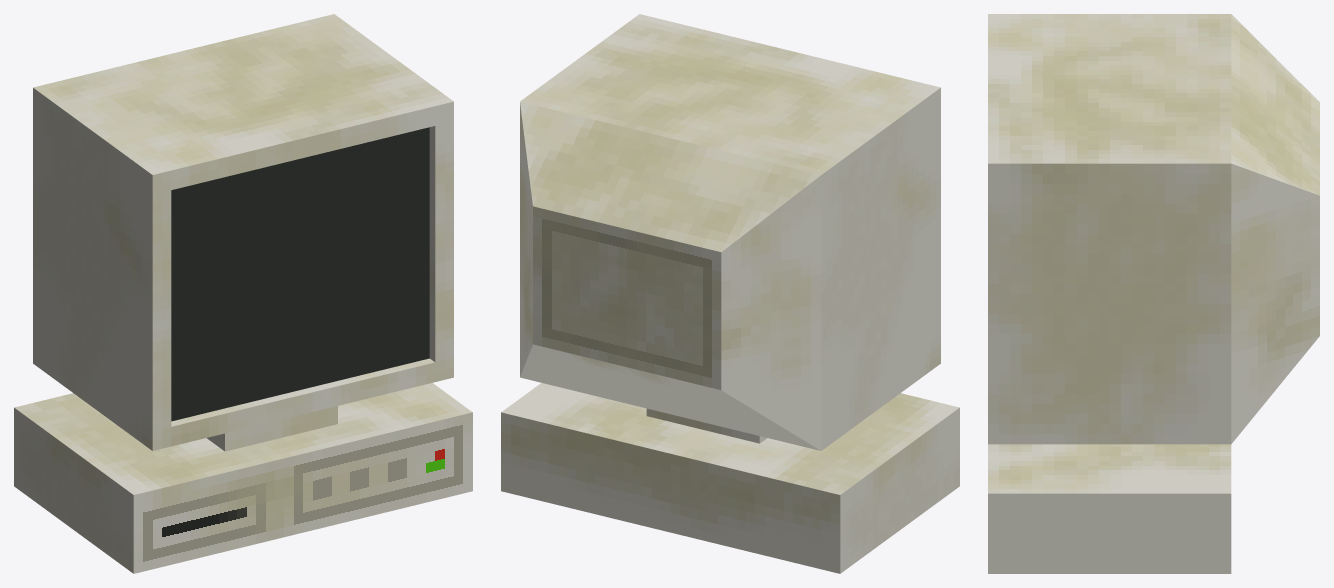
Rendered from ComputerScreen.gltf.
3 renders of one model, left to right at view 1: azimuth 30°, elevation 25°; view 2: azimuth 150°, elevation 25°; view 3: azimuth 270°, elevation 25°, orthographic.
Parts seen in each view (by area): view 1: cuboid; view 2: cuboid; view 3: cuboid.
Part boxes in pixels (x1,y1,x2,y2): cuboid: (14,14,472,573); cuboid: (501,14,959,573); cuboid: (988,14,1319,573).
Size of the model in its own units: 1.12 by 1.25 by 0.9375.
1 material, 1 textured.
